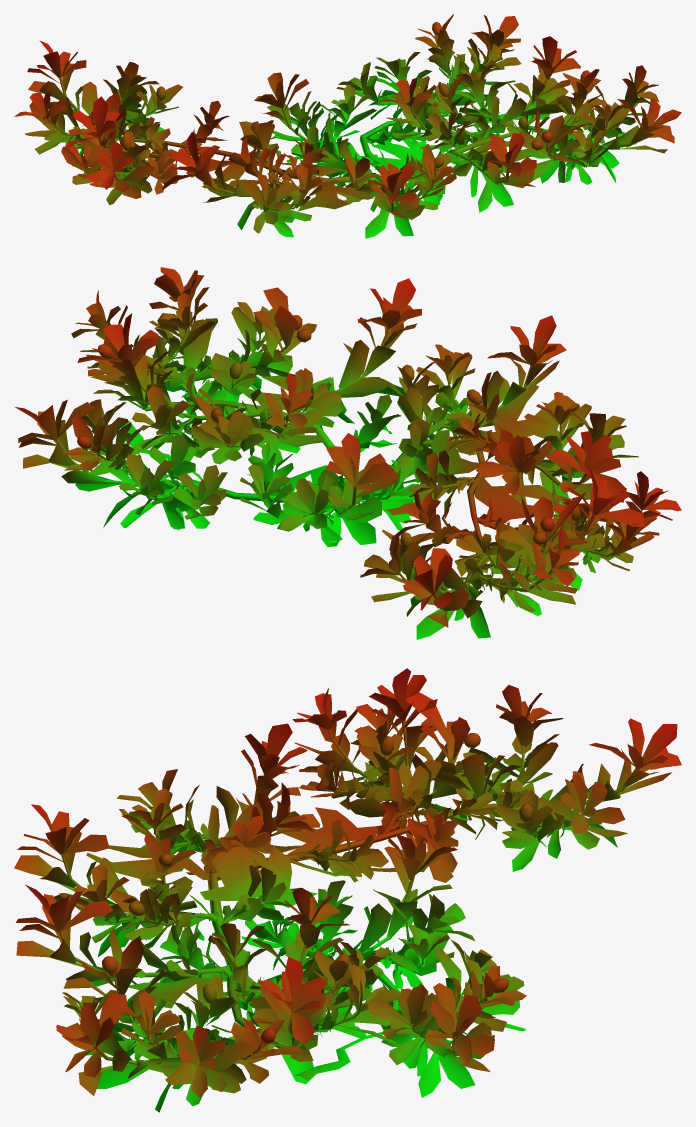
File: Alpine Bearberry_LOD3_Var13_xb0gdazqx.fbx
3 renders of one model, top to bottom at view 1: azimuth 30°, elevation 25°; view 2: azimuth 150°, elevation 25°; view 3: azimuth 270°, elevation 25°, orthographic. The views are drawn at different scales.
Parts seen in each view (by area): view 1: _l966_Var13_LOD3; view 2: _l966_Var13_LOD3; view 3: _l966_Var13_LOD3.
Part boxes in pixels (x1,y1,x2,y2): _l966_Var13_LOD3: [14, 14, 681, 238]; _l966_Var13_LOD3: [15, 267, 681, 639]; _l966_Var13_LOD3: [14, 668, 681, 1112].
Bounding box in the file's own units: 64.86 × 14.7 × 50.93.
